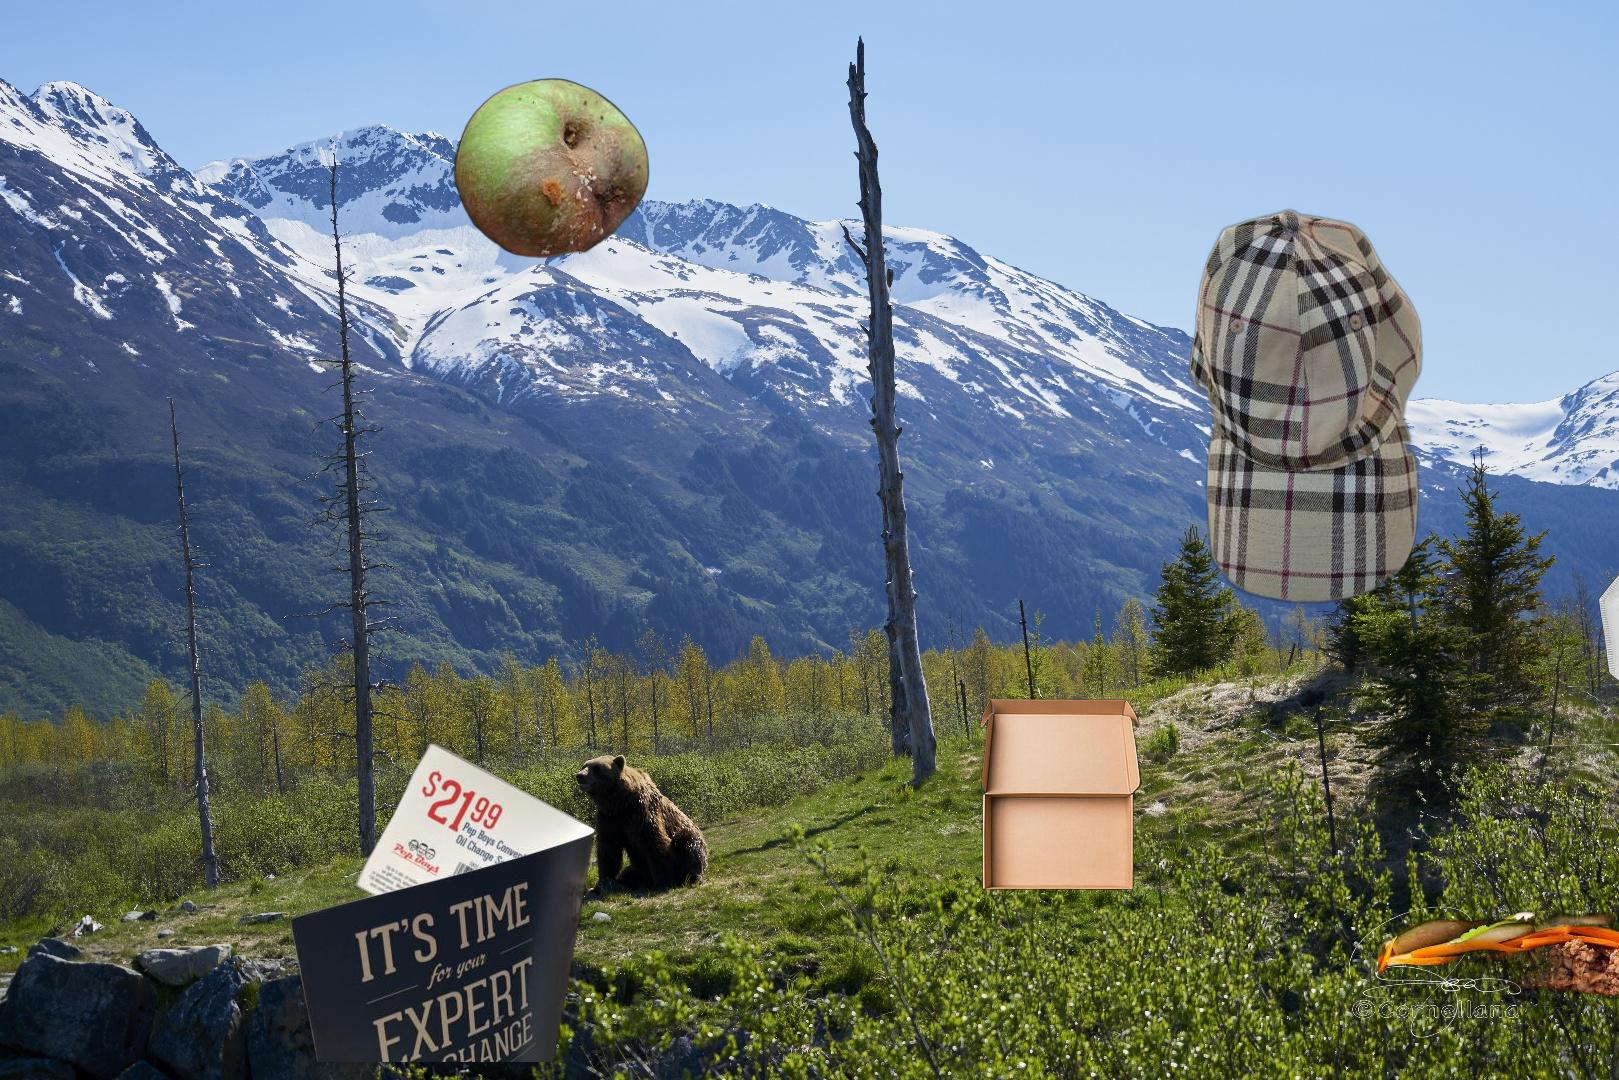biological: (450, 76, 652, 260), (1378, 904, 1619, 1052), (1606, 862, 1619, 1080)
clothes: (1186, 205, 1426, 607)
paper: (286, 739, 600, 1062)
trash: (1596, 540, 1619, 726)
trashbox-cardboard: (976, 695, 1143, 893)
